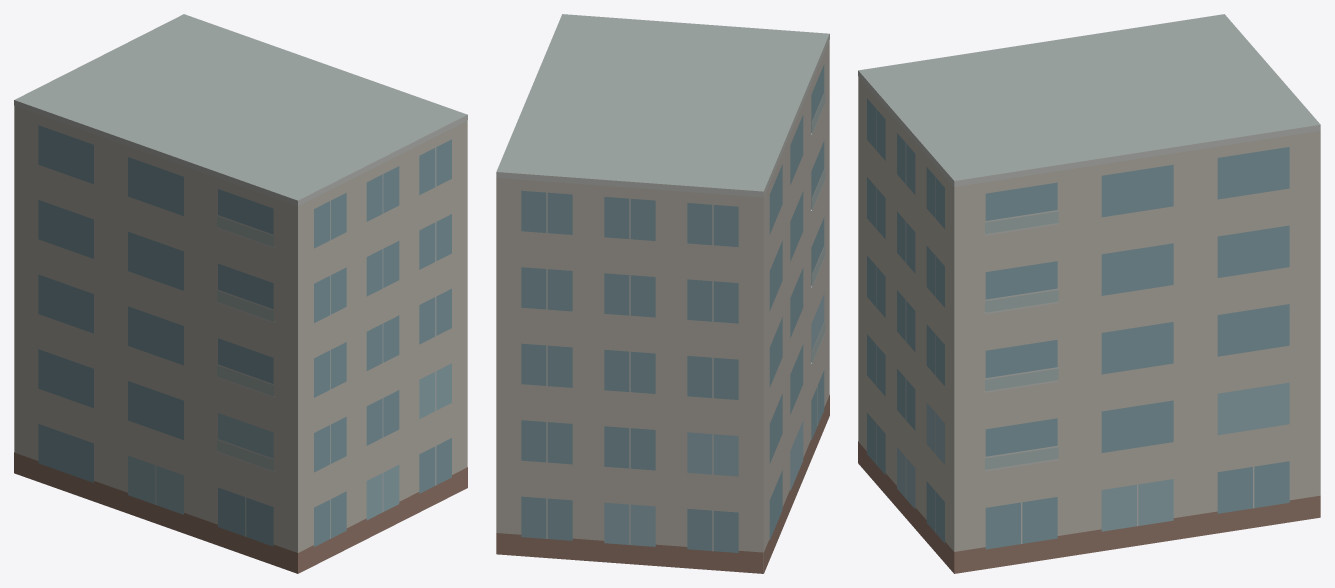
The model's file is survey-upis-32853950.glb.
3 views of the same model, side by side, from view 1: azimuth 30°, elevation 25°; view 2: azimuth 150°, elevation 25°; view 3: azimuth 270°, elevation 25° (orthographic). The views are drawn at different scales.
Visible parts, largest first — view 1: survey-upis-32853950.tmp; view 2: survey-upis-32853950.tmp; view 3: survey-upis-32853950.tmp.
Part boxes in pixels (x1,y1,x2,y2): survey-upis-32853950.tmp: (14, 14, 467, 573); survey-upis-32853950.tmp: (496, 14, 829, 573); survey-upis-32853950.tmp: (858, 14, 1320, 573).
Bounding box in the file's own units: 14.41 × 15.8 × 16.87.
